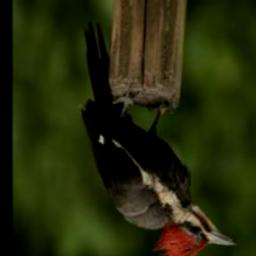Woodpecker: (68, 18, 241, 256)
